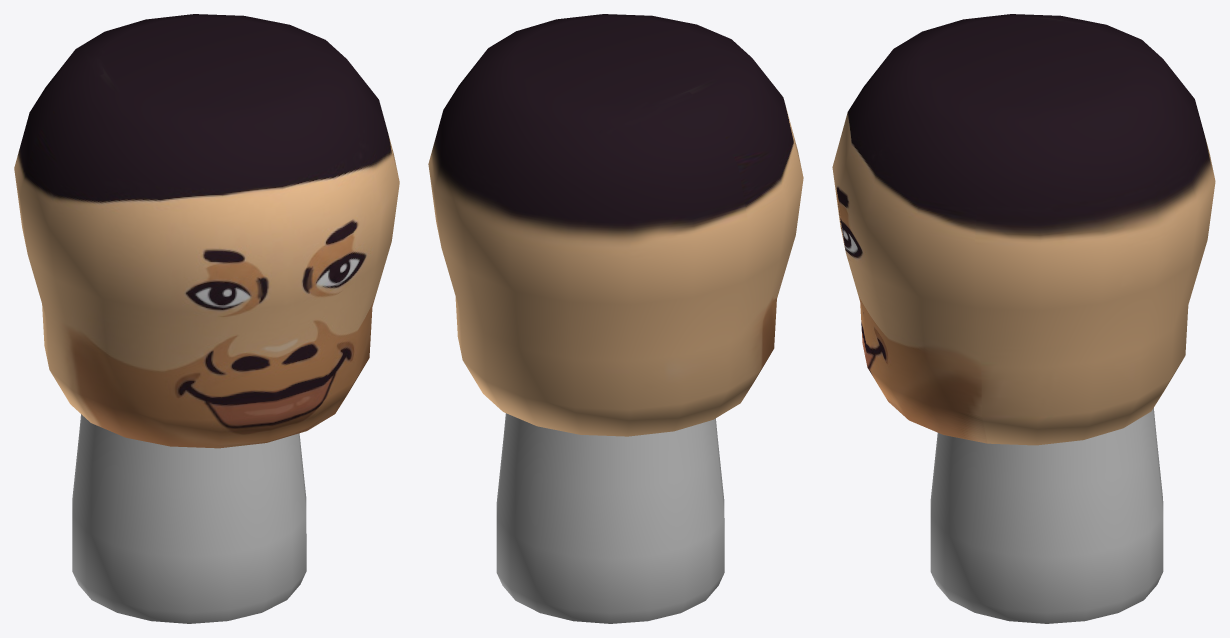
The picture shows the model from 3 angles, left to right: view 1: azimuth 30°, elevation 25°; view 2: azimuth 150°, elevation 25°; view 3: azimuth 270°, elevation 25°; orthographic projection. The views are drawn at different scales.
Parts seen in each view (by area): view 1: 6; view 2: 6; view 3: 6.
Boxes of the visible parts, x1,y1,x2,y2 form: 6: (14, 14, 399, 623); 6: (428, 14, 803, 623); 6: (832, 14, 1215, 623).
Size of the model in its own units: 64.85 by 96.74 by 64.85.
